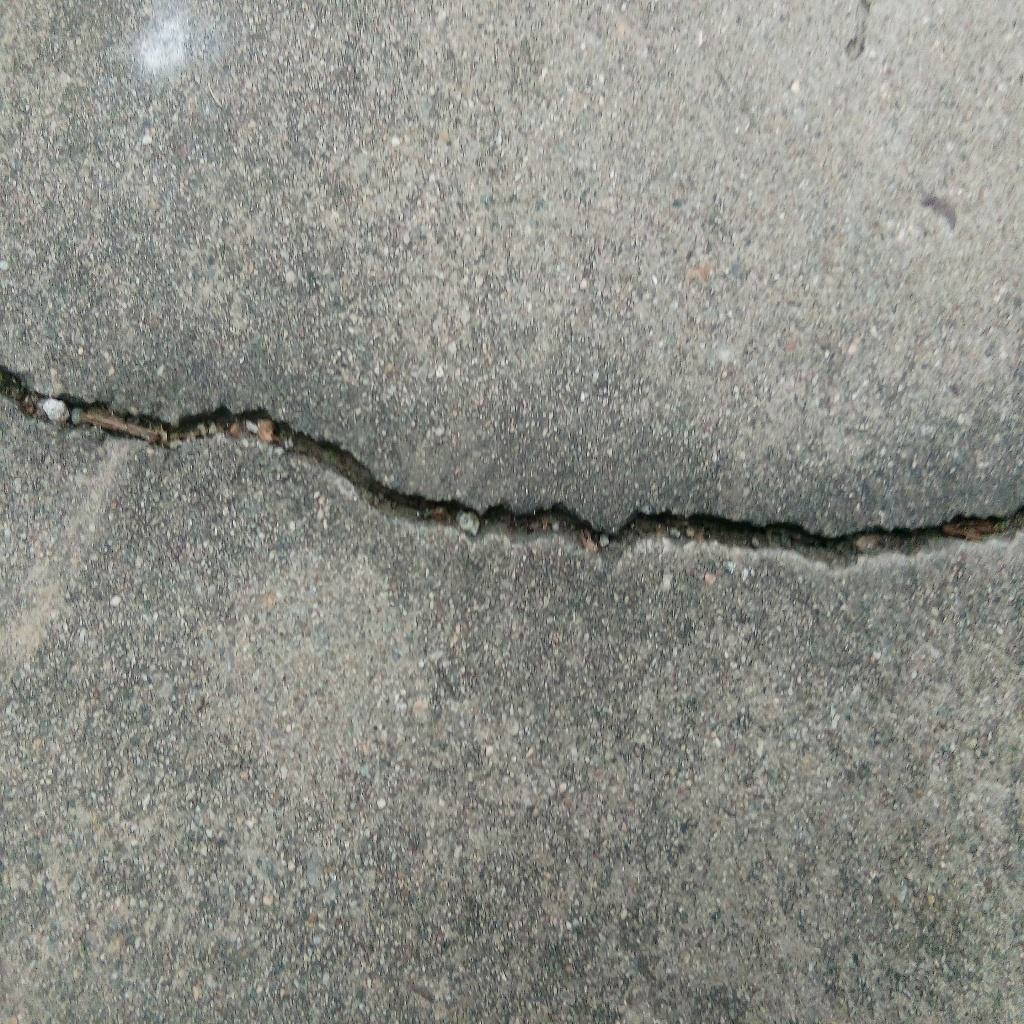Crack: (1, 363, 1024, 573)
